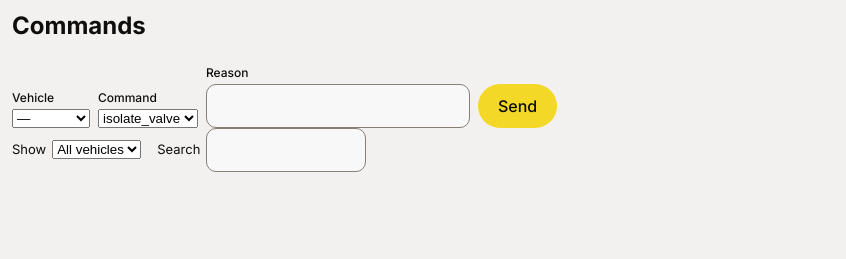
Test: typed argument inputs come from the mission db: enum select, number input with its limits and unit
The image size is (846, 259).
Select "isolate_valve" in the dropdown labelled "Command": {"x": 148, "y": 118} 98,109 -> 198,128
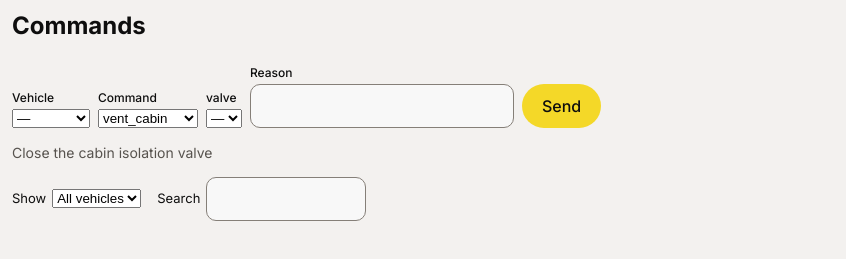
Select "vent_cabin" in the dropdown labelled "Command": {"x": 148, "y": 118} 98,109 -> 198,128
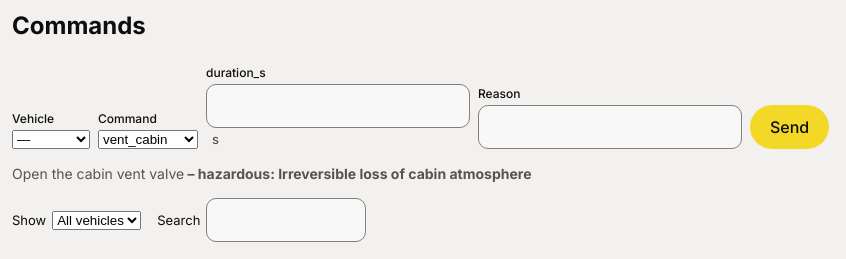
Result: the text with class "unit" reads "s" at 212,131 -> 219,147
Result: the element with class "desc" shows "hazardous: Irreversible loss of cabin atmosphere" at 12,165 -> 532,182
